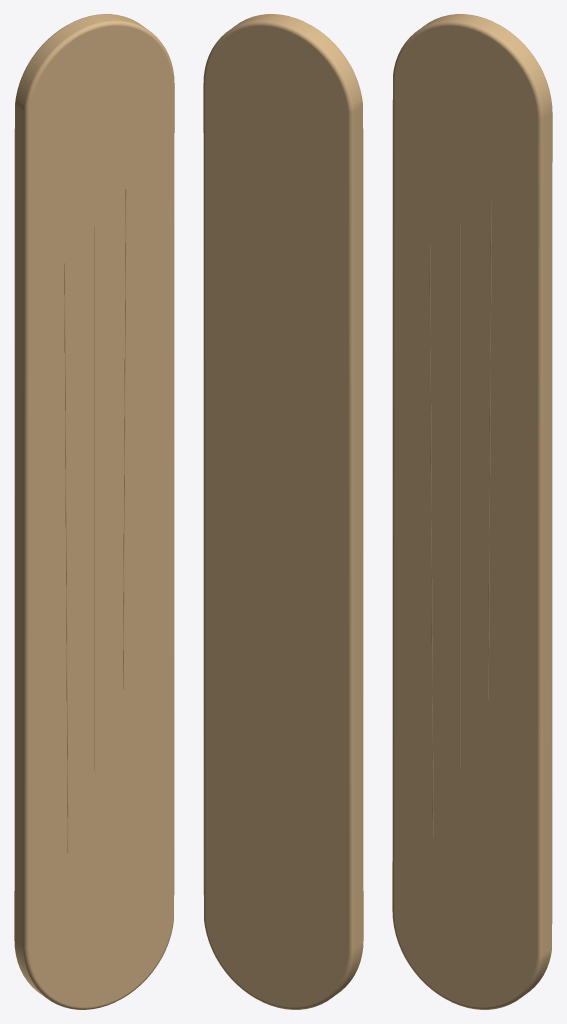
Rendered from spatula.glb.
The picture shows the model from 3 angles, left to right: view 1: azimuth 30°, elevation 25°; view 2: azimuth 150°, elevation 25°; view 3: azimuth 330°, elevation 25°; orthographic projection.
Parts seen in each view (by area): view 1: Spatula | continuous rounded wooden body, Spatula | quiet grain 0, Spatula | quiet grain 2, Spatula | quiet grain 1; view 2: Spatula | continuous rounded wooden body; view 3: Spatula | continuous rounded wooden body, Spatula | quiet grain 1, Spatula | quiet grain 0, Spatula | quiet grain 2.
Part boxes in pixels (box(x1,y1,x2,y2)): Spatula | continuous rounded wooden body: box(14, 14, 174, 1009); Spatula | quiet grain 0: box(64, 262, 68, 852); Spatula | quiet grain 2: box(123, 188, 126, 688); Spatula | quiet grain 1: box(94, 226, 94, 770); Spatula | continuous rounded wooden body: box(203, 14, 363, 1009); Spatula | continuous rounded wooden body: box(392, 14, 552, 1009); Spatula | quiet grain 1: box(459, 223, 460, 767); Spatula | quiet grain 0: box(429, 245, 433, 836); Spatula | quiet grain 2: box(488, 201, 491, 699).
Size of the model in its own units: 0.024 by 0.15 by 0.00356.
